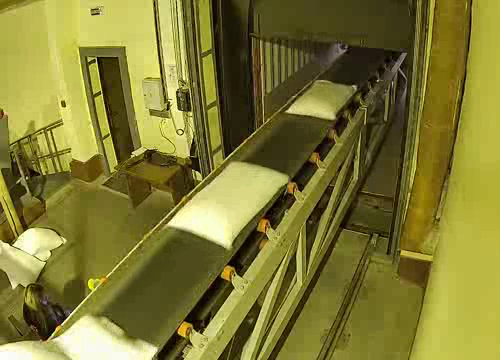bag: (157, 152, 309, 254), (0, 310, 162, 360), (281, 74, 370, 123)
